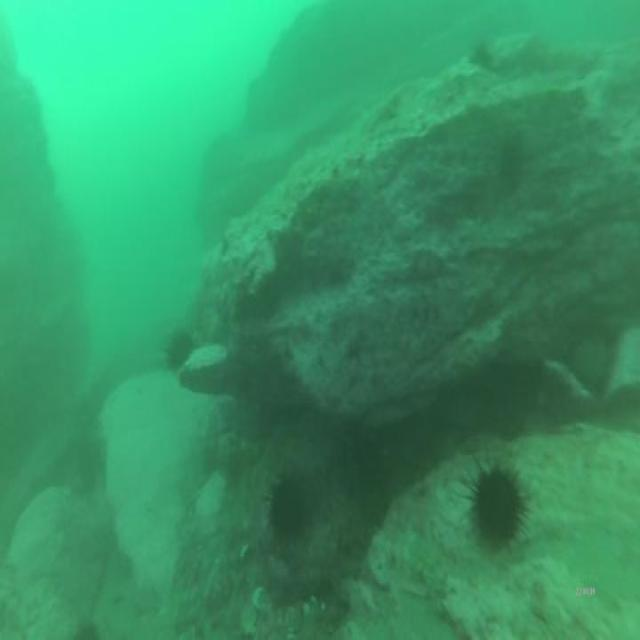echinus: (464, 454, 531, 554), (266, 472, 316, 544), (498, 126, 528, 198), (163, 324, 197, 378), (470, 40, 496, 72)
holothurian: (266, 561, 343, 616)
